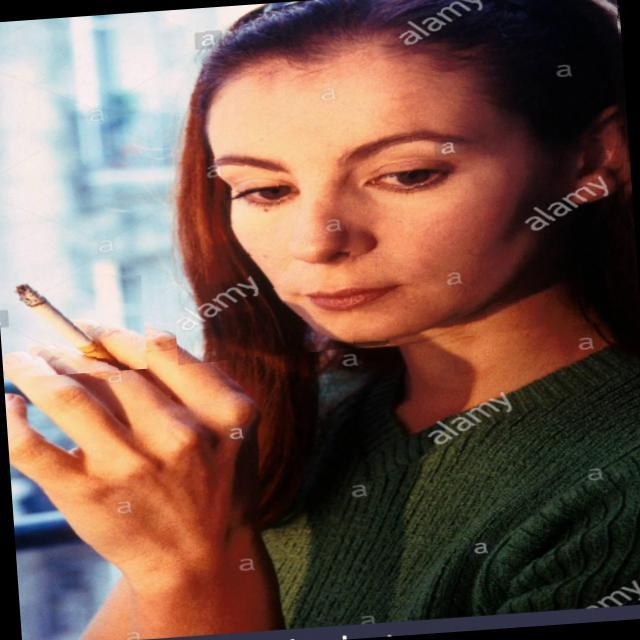cigarette: (1, 262, 147, 378)
